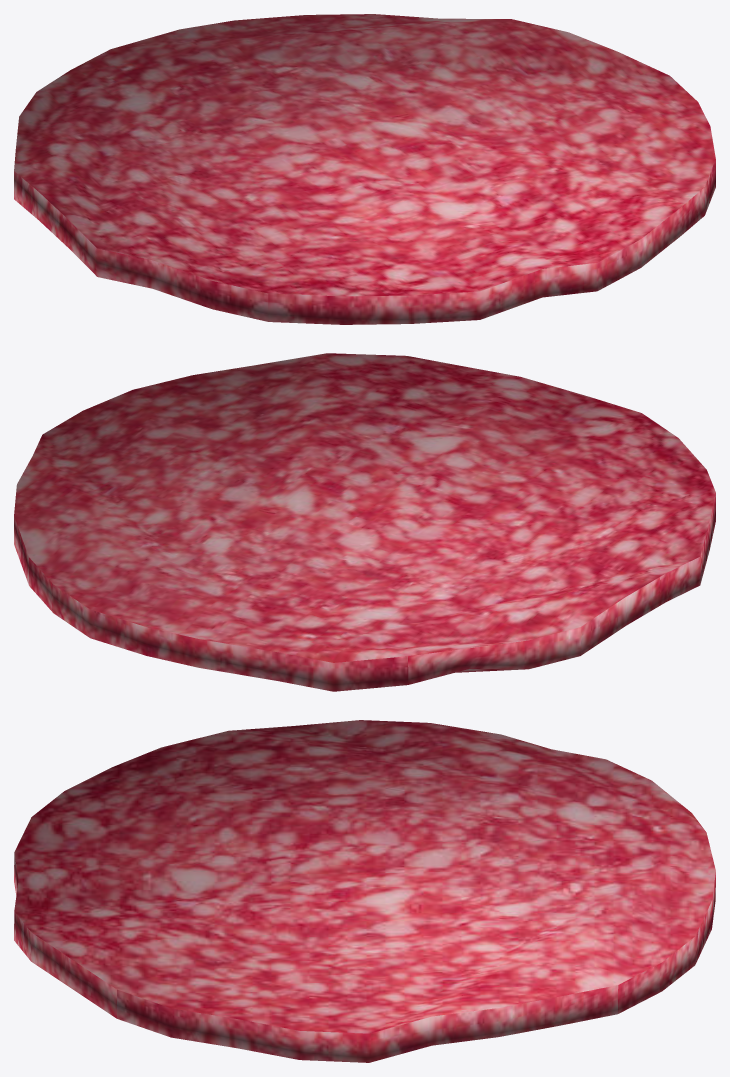
File: pepperonni.fbx
3 views of the same model, one above another, from view 1: azimuth 30°, elevation 25°; view 2: azimuth 150°, elevation 25°; view 3: azimuth 270°, elevation 25° (orthographic). The views are drawn at different scales.
Visible parts, largest first — view 1: pepperonni; view 2: pepperonni; view 3: pepperonni.
Boxes of the visible parts, x1=… form: pepperonni: x1=14, y1=14, x2=715, y2=324; pepperonni: x1=14, y1=353, x2=715, y2=691; pepperonni: x1=14, y1=720, x2=715, y2=1062.
Bounding box in the file's own units: 10.13 × 0.6754 × 9.84.
Materials: 1 (1 with a texture image).
